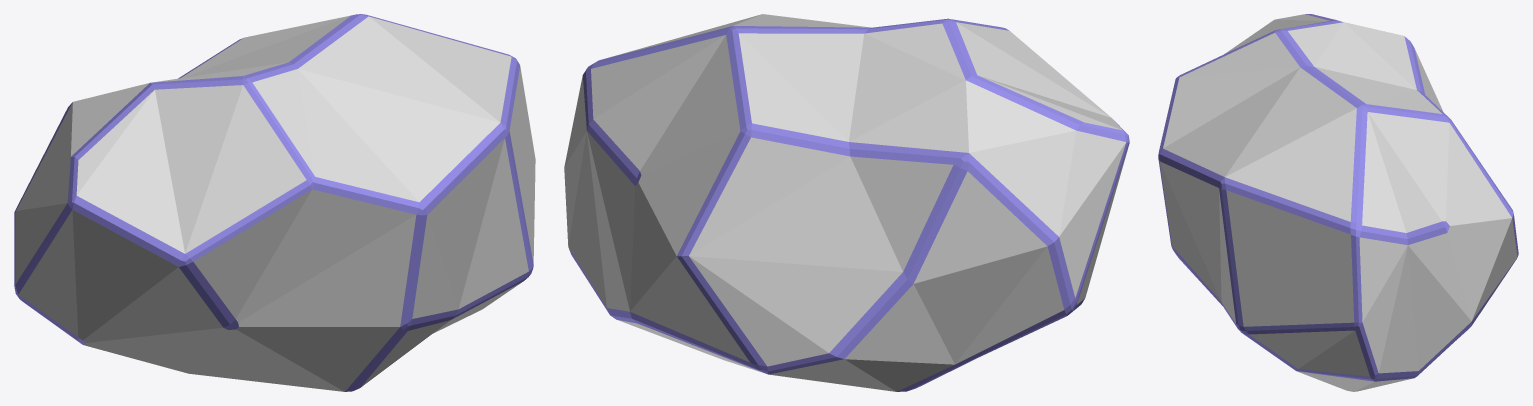
The model's file is stone.fbx.
3 renders of one model, left to right at view 1: azimuth 30°, elevation 25°; view 2: azimuth 150°, elevation 25°; view 3: azimuth 270°, elevation 25°, orthographic. The views are drawn at different scales.
Visible parts, largest first — view 1: stone; view 2: stone; view 3: stone.
Boxes of the visible parts, <box> form: stone: <box>14,14,535,391</box>; stone: <box>564,14,1129,391</box>; stone: <box>1158,14,1518,391</box>.
Bounding box in the file's own units: 735 × 468 × 544.
